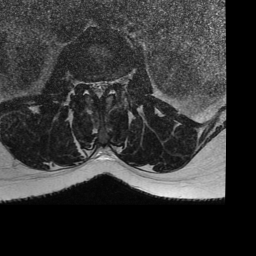CCS_normal: (95, 75, 102, 103)
LFS_severe_stenosis: (109, 71, 116, 93)
LLS_normal: (101, 74, 109, 96)
RFS_severe_stenosis: (81, 72, 88, 93)
RLS_normal: (88, 74, 94, 96)
